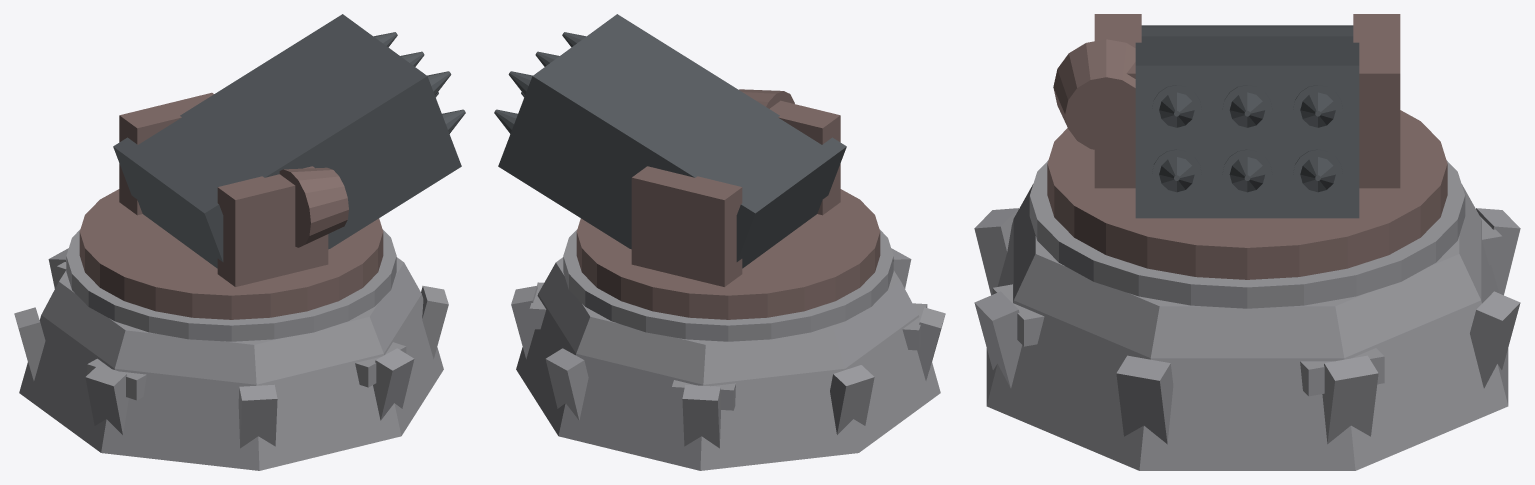
The model's file is turret_mlrs.glb.
The picture shows the model from 3 angles, left to right: view 1: azimuth 30°, elevation 25°; view 2: azimuth 150°, elevation 25°; view 3: azimuth 270°, elevation 25°; orthographic projection. The views are drawn at different scales.
Parts seen in each view (by area): view 1: Hull_Base, Gun_Base, Turret_Base; view 2: Hull_Base, Gun_Base, Turret_Base; view 3: Hull_Base, Turret_Base, Gun_Base.
Part boxes in pixels (x1,y1,x2,y2): Hull_Base: (14,229,448,470); Gun_Base: (113,14,465,268); Turret_Base: (79,92,383,319); Hull_Base: (511,229,945,470); Gun_Base: (494,14,846,268); Turret_Base: (576,89,880,319); Hull_Base: (974,160,1520,470); Turret_Base: (1047,14,1447,279); Gun_Base: (1135,25,1359,218).
Size of the model in its own units: 2 by 1.48 by 1.86.
